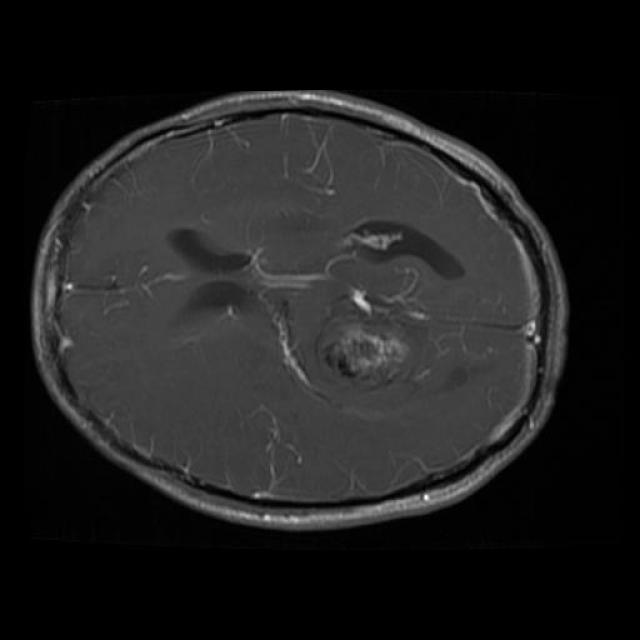Glioma: (289, 287, 448, 403)
